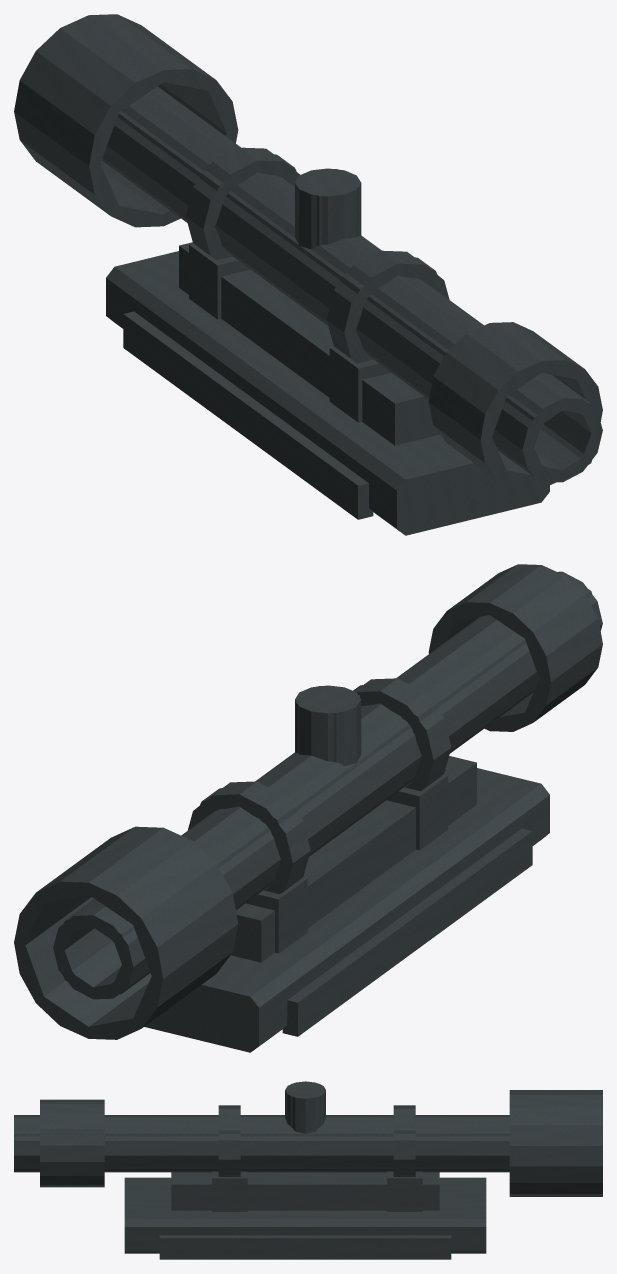
File: scope6.glb
The picture shows the model from 3 angles, top to bottom: view 1: azimuth 30°, elevation 25°; view 2: azimuth 150°, elevation 25°; view 3: azimuth 270°, elevation 25°; orthographic projection. The views are drawn at different scales.
Visible parts, largest first — view 1: scope6_foot, scope6_foot.001; view 2: scope6_foot, scope6_foot.001; view 3: scope6_foot, scope6_foot.001.
Boxes of the visible parts, x1,y1,x2,y2 form: scope6_foot: [14, 14, 602, 535]; scope6_foot.001: [90, 70, 602, 488]; scope6_foot: [14, 564, 602, 1052]; scope6_foot.001: [14, 589, 592, 1038]; scope6_foot: [14, 1081, 602, 1259]; scope6_foot.001: [14, 1084, 509, 1170].
Size of the model in its own units: 0.0912 by 0.115 by 0.4293.
Materials: 1 (1 with a texture image).
